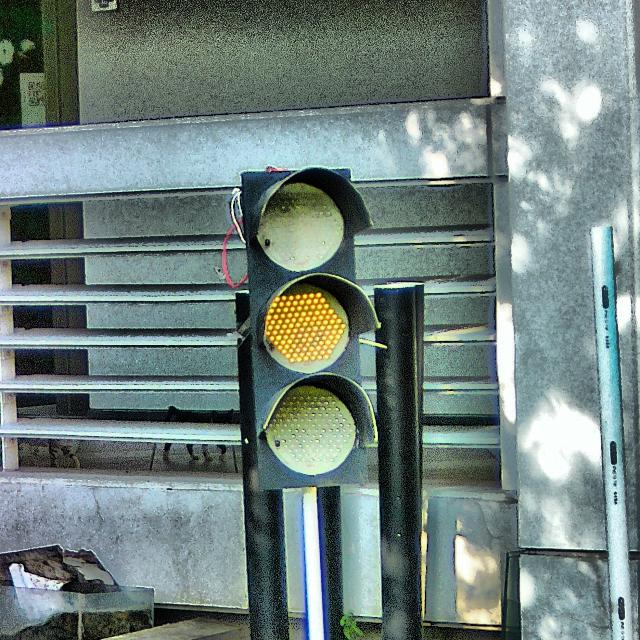yellow: (242, 170, 375, 487)
